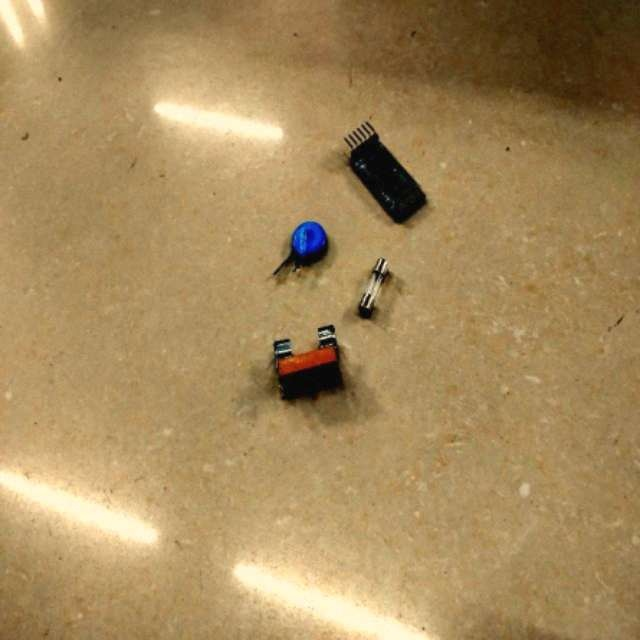capacitor: (288, 222, 327, 267)
